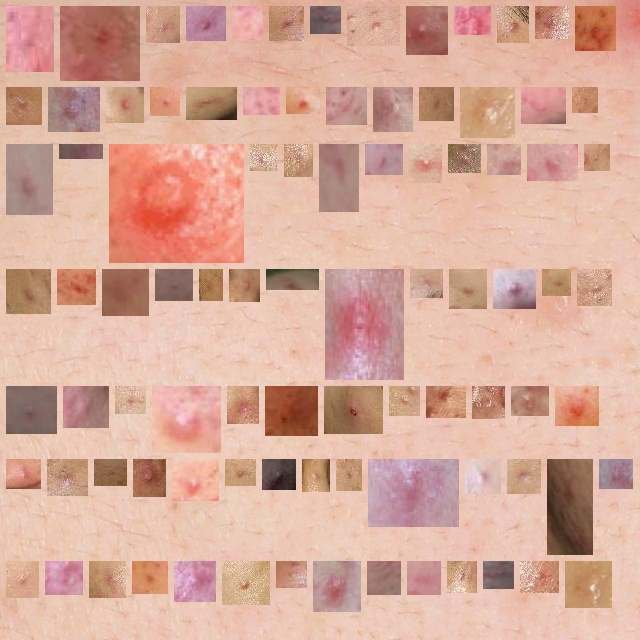papule: (117, 152, 236, 255), (333, 277, 396, 372), (376, 467, 451, 519), (68, 14, 132, 73), (160, 394, 213, 445), (555, 467, 585, 547), (14, 152, 45, 207), (14, 14, 46, 64), (332, 394, 375, 426), (468, 95, 507, 130), (273, 394, 310, 428), (327, 152, 351, 204), (14, 394, 49, 426), (321, 569, 353, 604), (56, 95, 92, 124), (110, 277, 141, 308), (573, 569, 604, 600), (230, 569, 262, 597), (355, 14, 392, 38), (414, 14, 440, 47), (14, 277, 43, 306), (180, 467, 211, 493), (71, 394, 101, 420), (535, 152, 570, 173), (583, 14, 608, 43), (381, 95, 405, 124), (563, 394, 591, 418), (182, 569, 208, 594), (501, 277, 528, 301), (529, 95, 558, 116), (194, 95, 229, 112), (434, 386, 458, 410), (334, 95, 359, 117), (457, 277, 479, 301), (55, 467, 80, 488), (65, 277, 88, 297), (194, 14, 218, 33), (97, 569, 118, 590), (14, 95, 34, 117), (114, 95, 136, 115), (274, 277, 311, 288), (585, 277, 604, 298), (53, 569, 75, 587), (417, 152, 434, 175), (473, 467, 493, 486), (154, 14, 172, 35), (141, 467, 158, 489), (528, 569, 551, 585), (277, 14, 296, 33), (14, 569, 31, 590), (163, 277, 185, 293), (235, 394, 251, 416), (427, 95, 446, 113), (515, 467, 533, 486), (140, 569, 160, 586), (505, 14, 521, 35), (373, 152, 395, 167), (375, 569, 393, 587), (415, 569, 433, 587), (519, 394, 541, 408), (543, 14, 561, 31), (480, 394, 497, 411), (462, 14, 483, 27), (240, 14, 255, 32), (495, 152, 513, 167), (270, 467, 288, 482), (14, 467, 33, 481), (237, 277, 252, 294), (251, 95, 272, 107), (607, 467, 625, 481), (455, 569, 469, 585), (292, 152, 305, 169), (456, 152, 473, 165), (418, 277, 435, 290), (397, 394, 412, 408), (310, 467, 322, 484), (294, 95, 312, 106), (102, 467, 119, 478), (158, 95, 172, 108), (318, 14, 333, 26), (123, 394, 138, 406), (491, 569, 506, 581), (233, 467, 248, 478), (284, 569, 299, 580), (344, 467, 354, 483), (550, 277, 563, 288), (258, 152, 270, 163), (207, 277, 215, 293), (592, 152, 602, 163), (580, 95, 590, 105)
